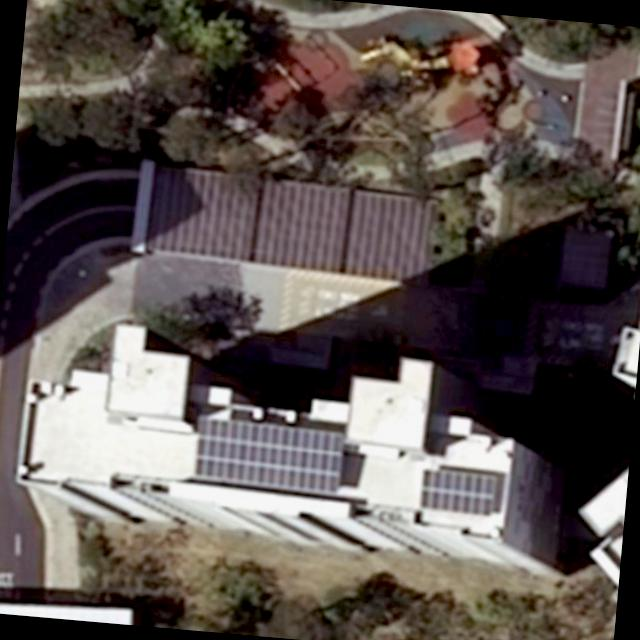solar: (190, 416, 348, 494), (416, 463, 499, 518)
